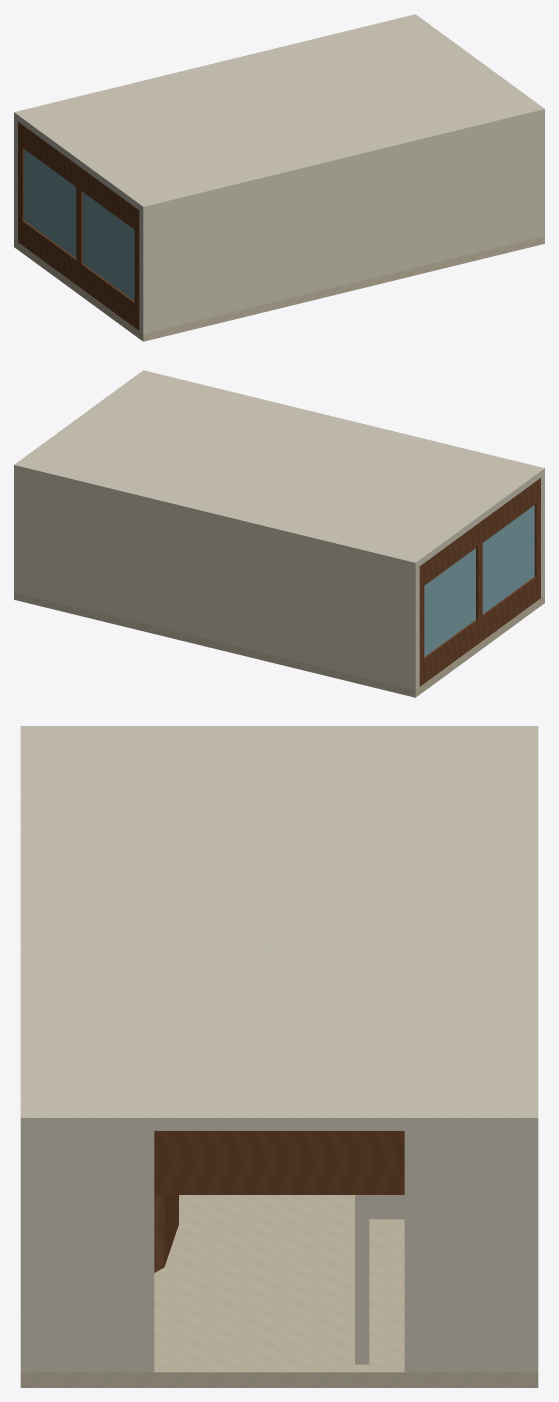
Rendered from TidalSpecialty.glb.
3 views of the same model, one above another, from view 1: azimuth 30°, elevation 25°; view 2: azimuth 150°, elevation 25°; view 3: azimuth 270°, elevation 25° (orthographic). The views are drawn at different scales.
Parts seen in each view (by area): view 1: TN496_Ceiling, TN496_SouthWall, TN496_Floor, TN496_CourtGlass_0, TN496_CourtGlass_1, TN496_WestSill, TN496_WestHeader, TN496_WestPier_1, TN496_WestPier_0, TN496_NorthWall, TN496_WestPier_2; view 2: TN496_Ceiling, TN496_NorthWall, TN496_Floor, TN496_CourtGlass_1, TN496_CourtGlass_0, TN496_WestSill, TN496_WestHeader, TN496_WestPier_1, TN496_WestPier_2, TN496_SouthWall, TN496_WestPier_0; view 3: TN496_Ceiling, TN496_Floor, TN496_FrontWall_0, TN496_FrontWall_1, TN496_EntryLintel, TN496_NorthWall, TN496_SouthWall, TN496_WashSouth_1, TN496_PrivacyScreen, TN496_WashWest.
Boxes of the visible parts, box(x1,y1,x2,y2) form: TN496_Ceiling: box(14, 14, 544, 213); TN496_SouthWall: box(139, 115, 544, 333); TN496_Floor: box(14, 236, 544, 341); TN496_CourtGlass_0: box(24, 149, 76, 257); TN496_CourtGlass_1: box(83, 192, 134, 300); TN496_WestSill: box(18, 218, 139, 330); TN496_WestHeader: box(18, 122, 139, 232); TN496_WestPier_1: box(76, 187, 82, 263); TN496_WestPier_0: box(18, 144, 24, 220); TN496_NorthWall: box(14, 119, 17, 241); TN496_WestPier_2: box(134, 230, 139, 305); TN496_Ceiling: box(14, 370, 544, 569); TN496_NorthWall: box(14, 471, 419, 689); TN496_Floor: box(14, 592, 544, 697); TN496_CourtGlass_1: box(482, 505, 534, 613); TN496_CourtGlass_0: box(424, 548, 475, 656); TN496_WestSill: box(419, 574, 540, 686); TN496_WestHeader: box(419, 478, 540, 588); TN496_WestPier_1: box(476, 543, 482, 619); TN496_WestPier_2: box(534, 500, 540, 576); TN496_SouthWall: box(541, 475, 544, 597); TN496_WestPier_0: box(419, 586, 424, 661); TN496_Ceiling: box(20, 726, 538, 1130); TN496_Floor: box(20, 1195, 538, 1387); TN496_FrontWall_0: box(404, 1131, 522, 1372); TN496_FrontWall_1: box(36, 1131, 154, 1372); TN496_EntryLintel: box(154, 1131, 404, 1194); TN496_NorthWall: box(522, 1131, 538, 1372); TN496_SouthWall: box(20, 1131, 36, 1372); TN496_WashSouth_1: box(355, 1195, 369, 1364); TN496_PrivacyScreen: box(154, 1195, 178, 1272); TN496_WashWest: box(369, 1195, 404, 1219).
Size of the model in its own units: 12.9 by 4.14 by 7.2.
Materials: 7 (5 with a texture image).
